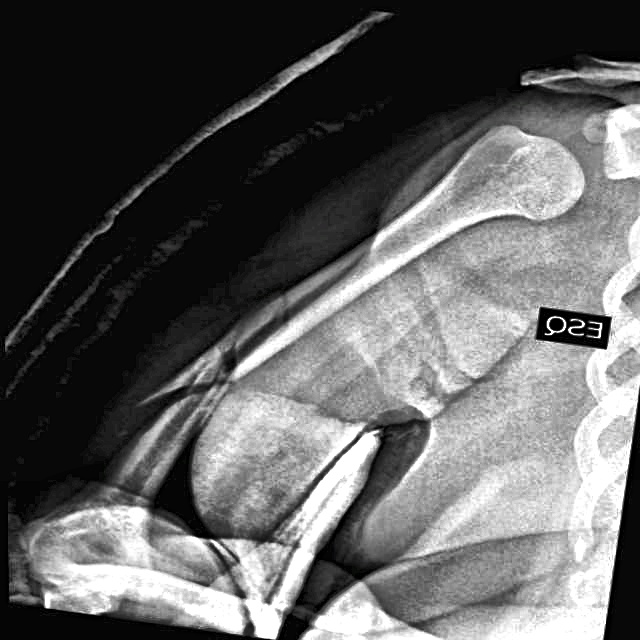Spiral: (108, 297, 295, 446)
